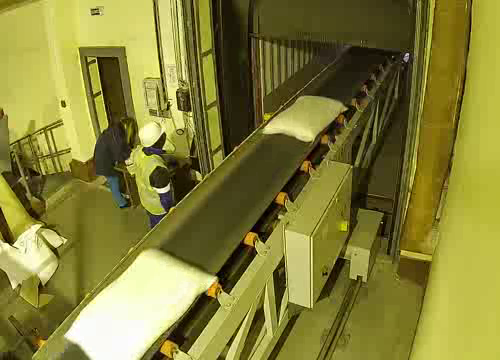bag: (61, 245, 227, 360), (262, 90, 349, 143)
